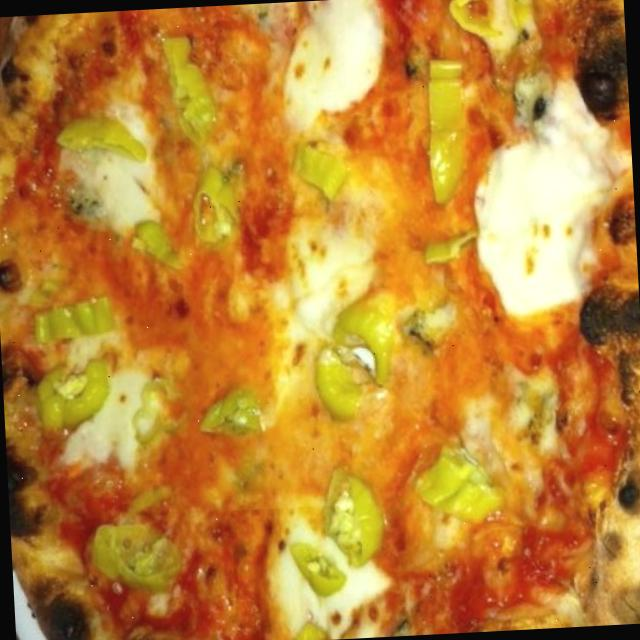cheese: (462, 70, 624, 321), (231, 503, 358, 640), (44, 115, 180, 242), (284, 0, 392, 121)
pizza: (0, 0, 640, 640)
